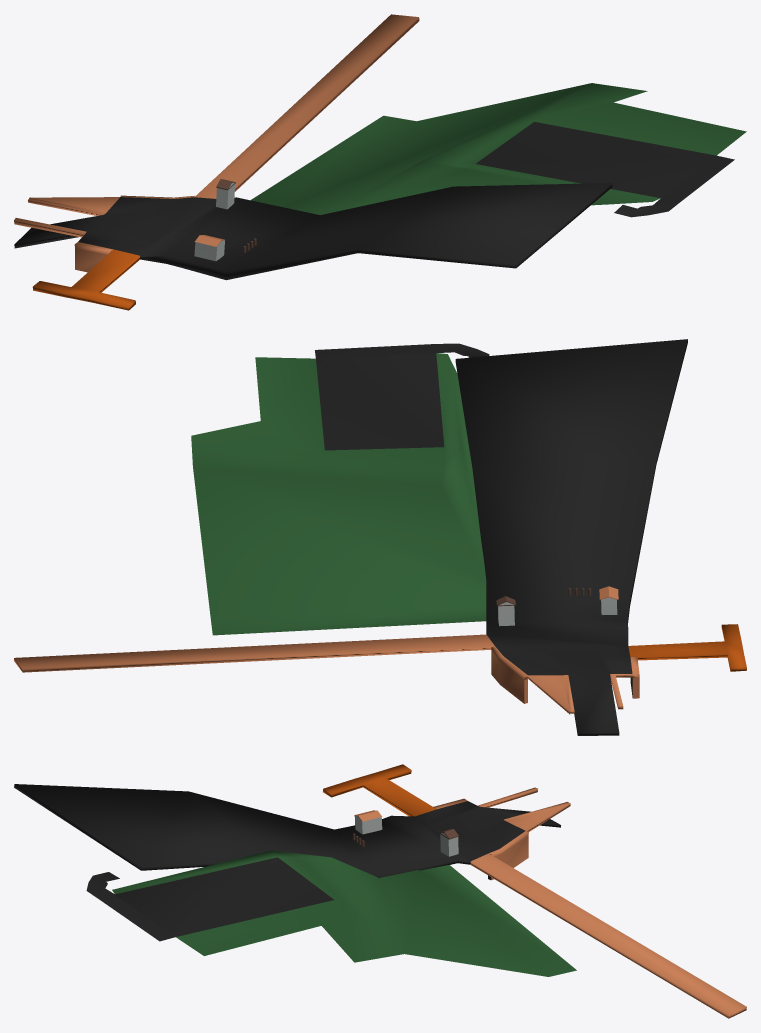
File: boatrampbg.glb
3 renders of one model, top to bottom at view 1: azimuth 30°, elevation 25°; view 2: azimuth 150°, elevation 25°; view 3: azimuth 270°, elevation 25°, orthographic. The views are drawn at different scales.
Visible parts, largest first — view 1: Boat Launch.006, Boat Launch.007, Plane.017, Plane.016; view 2: Boat Launch.007, Boat Launch.006; view 3: Boat Launch.006, Boat Launch.007, Plane.017, Plane.016.
Boxes of the visible parts, bbox=[...] form: Boat Launch.006: bbox=[14, 14, 612, 310]; Boat Launch.007: bbox=[251, 83, 746, 217]; Plane.017: bbox=[194, 235, 225, 261]; Plane.016: bbox=[216, 179, 235, 209]; Boat Launch.007: bbox=[191, 343, 489, 635]; Boat Launch.006: bbox=[14, 339, 746, 735]; Boat Launch.006: bbox=[14, 764, 746, 1018]; Boat Launch.007: bbox=[86, 850, 576, 976]; Plane.017: bbox=[354, 810, 382, 834]; Plane.016: bbox=[439, 829, 458, 856].
Size of the model in its own units: 0.2309 by 0.051 by 0.2635.
